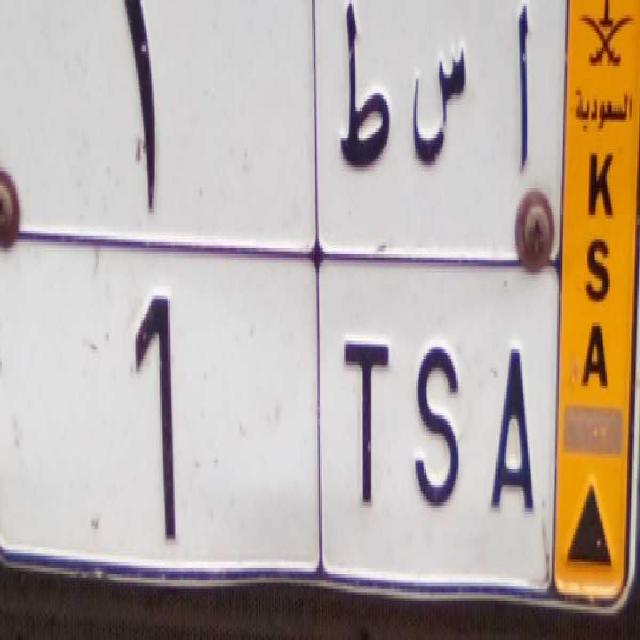license_plate: (2, 222, 554, 615)
